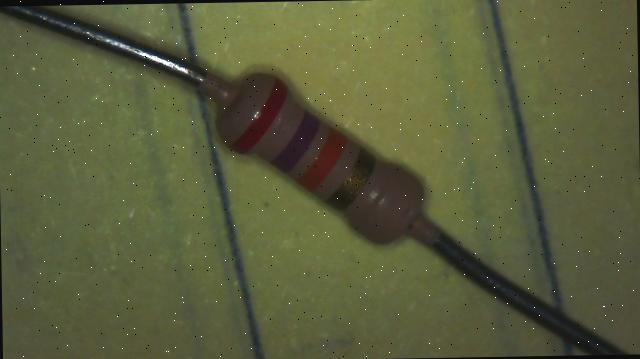gold: (326, 147, 374, 210)
orange: (296, 127, 346, 190)
red: (230, 77, 288, 152)
resistor: (182, 37, 451, 271)
violet: (271, 110, 320, 172)
